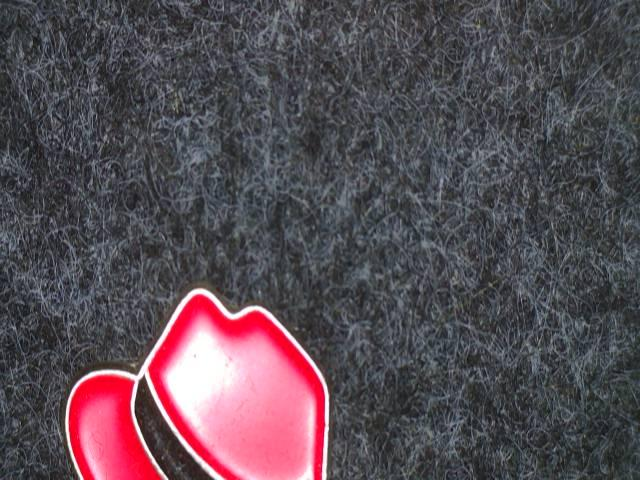Red-Hat: (39, 263, 395, 480)
